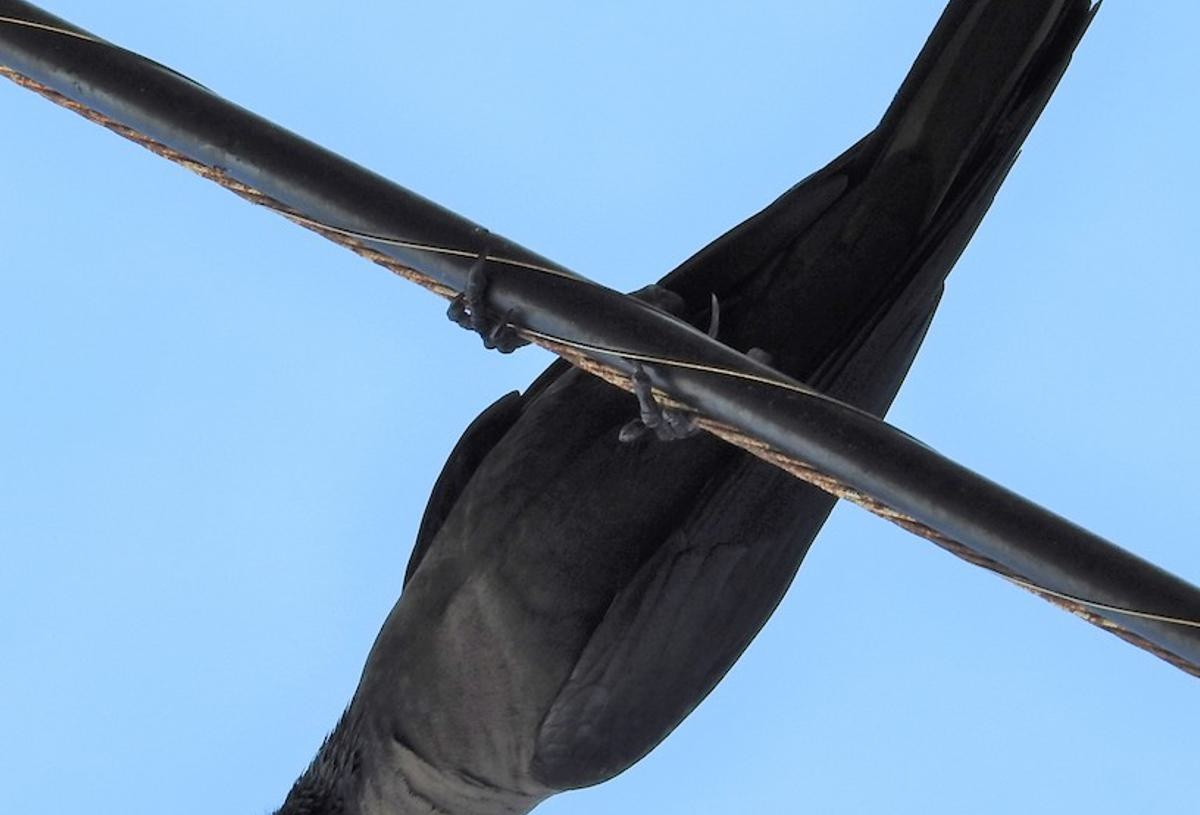crow: (126, 1, 1200, 812)
